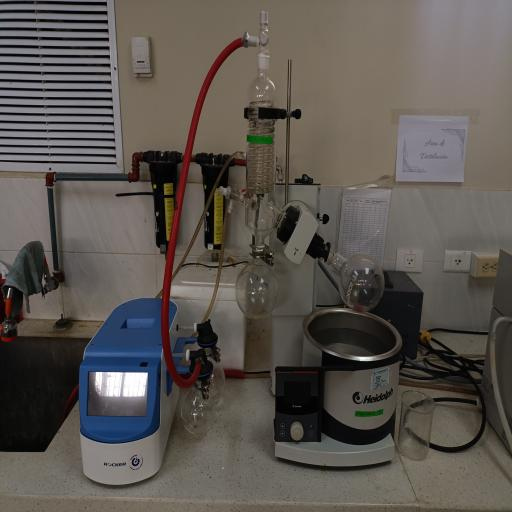Sistema_Rotaevaporacion: (67, 6, 417, 497)
